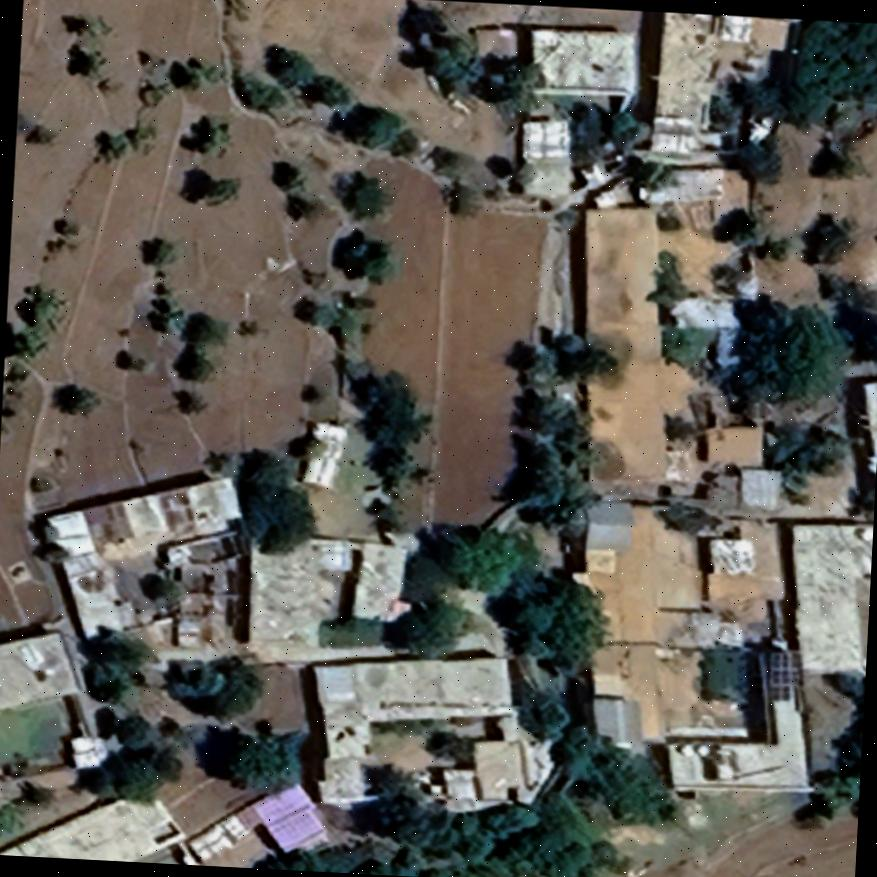Solarpanel: (762, 648, 804, 704)
